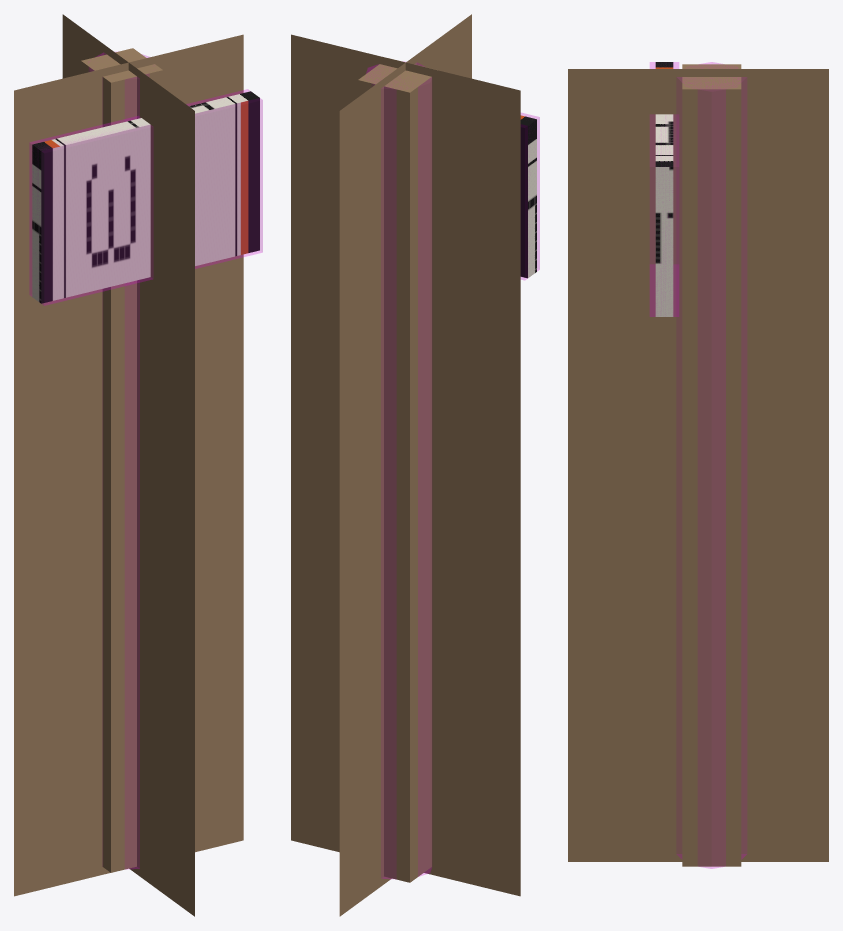
The model's file is milemarker_031.dae.
3 views of the same model, side by side, from view 1: azimuth 30°, elevation 25°; view 2: azimuth 150°, elevation 25°; view 3: azimuth 270°, elevation 25° (orthographic).
Visible parts, largest first — view 1: milemarker_031_a50, milemarker_031_a800, Colmesh_sign-1, milemarker_031_a200, Colmesh_post-1; view 2: milemarker_031_a50, milemarker_031_a800, Colmesh_post-1, milemarker_031_a200, Colmesh_sign-1; view 3: milemarker_031_a50, milemarker_031_a800, Colmesh_post-1, Colmesh_sign-1.
Boxes of the visible parts, x1,y1,x2,y2 form: milemarker_031_a50: [14, 14, 243, 916]; milemarker_031_a800: [32, 48, 259, 872]; Colmesh_sign-1: [29, 89, 262, 305]; milemarker_031_a200: [102, 56, 159, 866]; Colmesh_post-1: [89, 53, 148, 869]; milemarker_031_a50: [291, 14, 520, 916]; milemarker_031_a800: [358, 58, 536, 882]; Colmesh_post-1: [366, 61, 431, 878]; milemarker_031_a200: [379, 66, 431, 879]; Colmesh_sign-1: [521, 113, 539, 280]; milemarker_031_a50: [568, 69, 828, 861]; milemarker_031_a800: [655, 62, 741, 866]; Colmesh_post-1: [677, 62, 746, 868]; Colmesh_sign-1: [650, 62, 678, 316].
Size of the model in its own units: 0.441 by 0.441 by 1.48.
3 materials, 1 textured.
